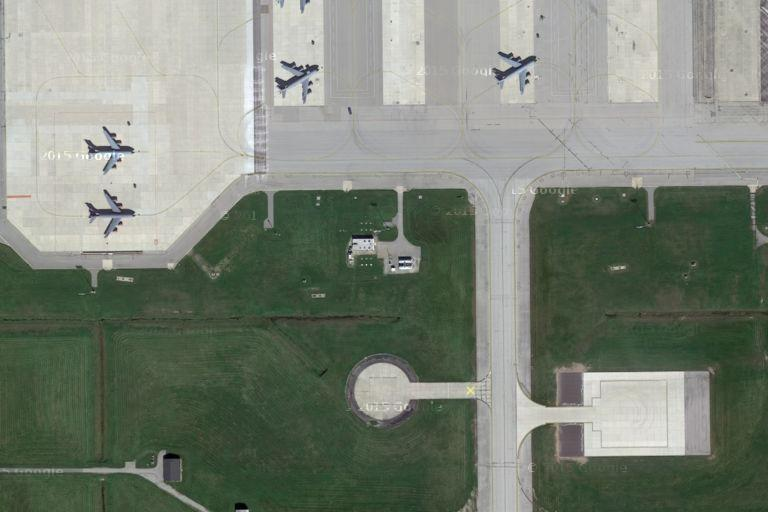KC-135: (82, 187, 141, 239), (82, 123, 139, 174), (275, 53, 319, 104), (492, 49, 540, 95)
